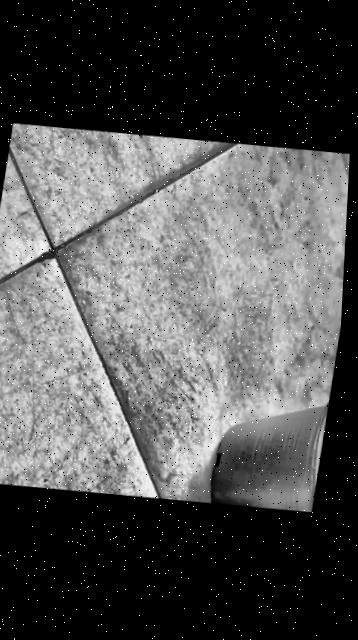pot: (206, 381, 331, 513)
